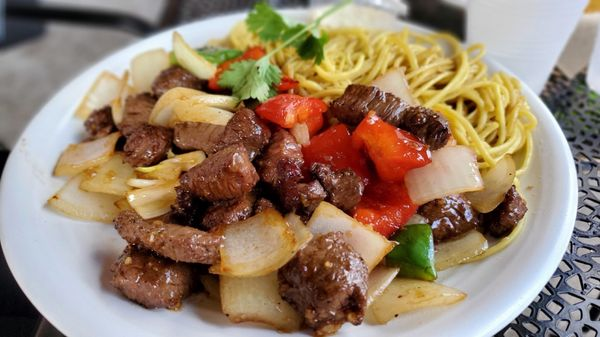curry: (57, 1, 600, 333)
